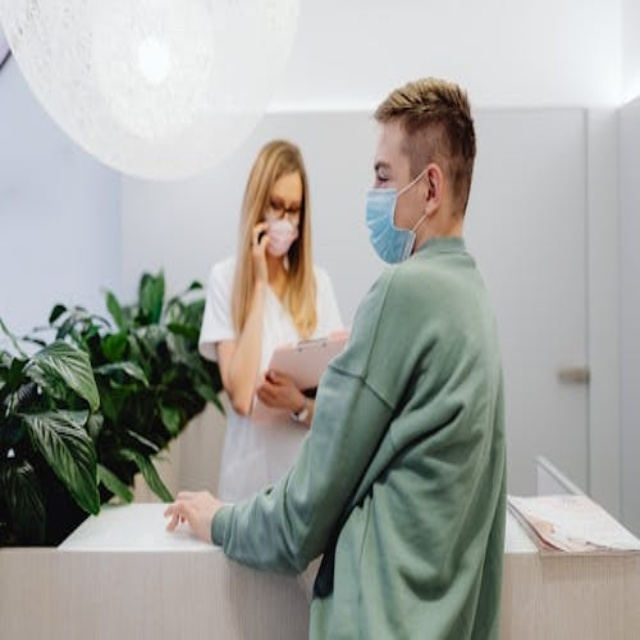Gafas: (266, 197, 303, 222)
Mascara: (366, 167, 430, 264), (261, 214, 299, 257)
Sin_gafas: (375, 172, 390, 184)
Sin_guantes: (164, 489, 222, 544), (259, 372, 309, 421)
